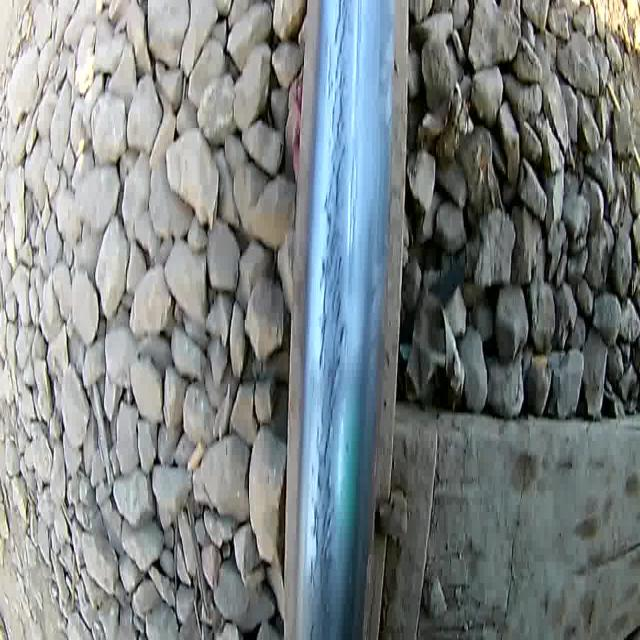Cracks: (306, 0, 349, 639)
Grooves: (345, 0, 367, 270)
